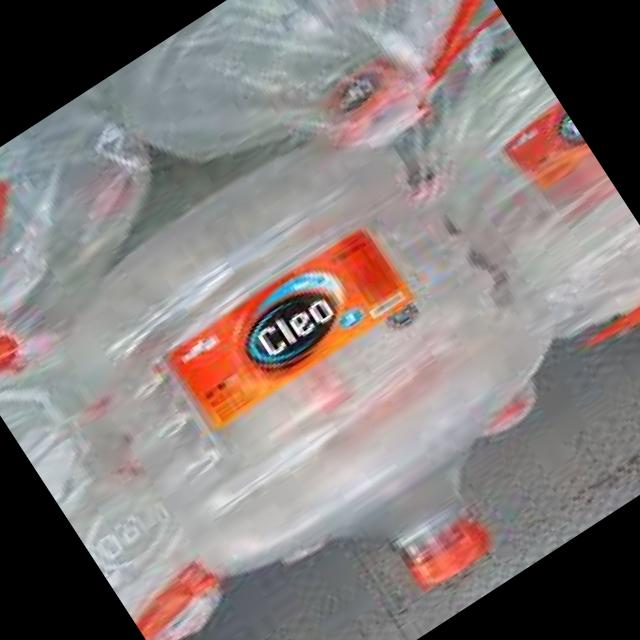Galon: (26, 73, 640, 640)
